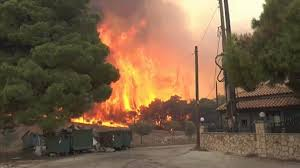fire: (108, 48, 189, 127), (69, 105, 148, 129)
smoke: (108, 4, 210, 64)
